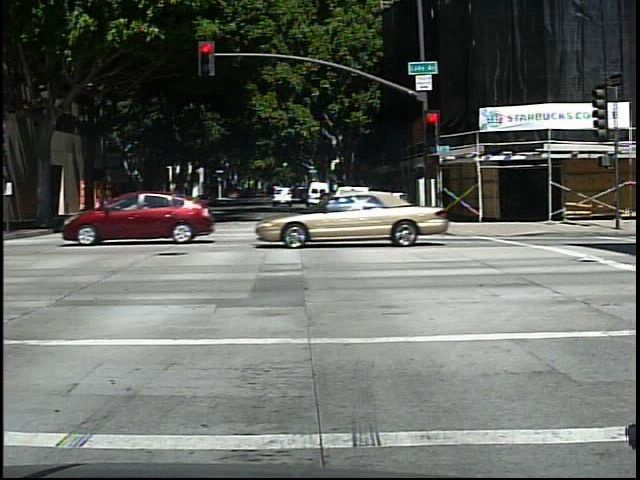person: (90, 184, 121, 237)
